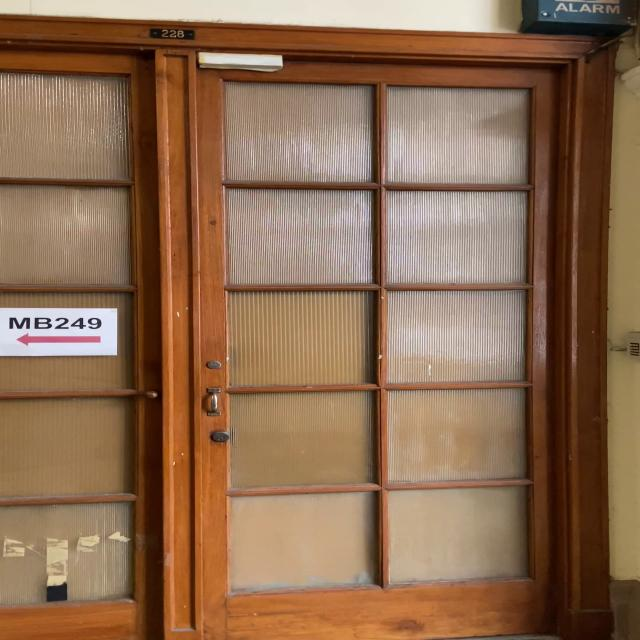room228: (148, 26, 197, 41)
